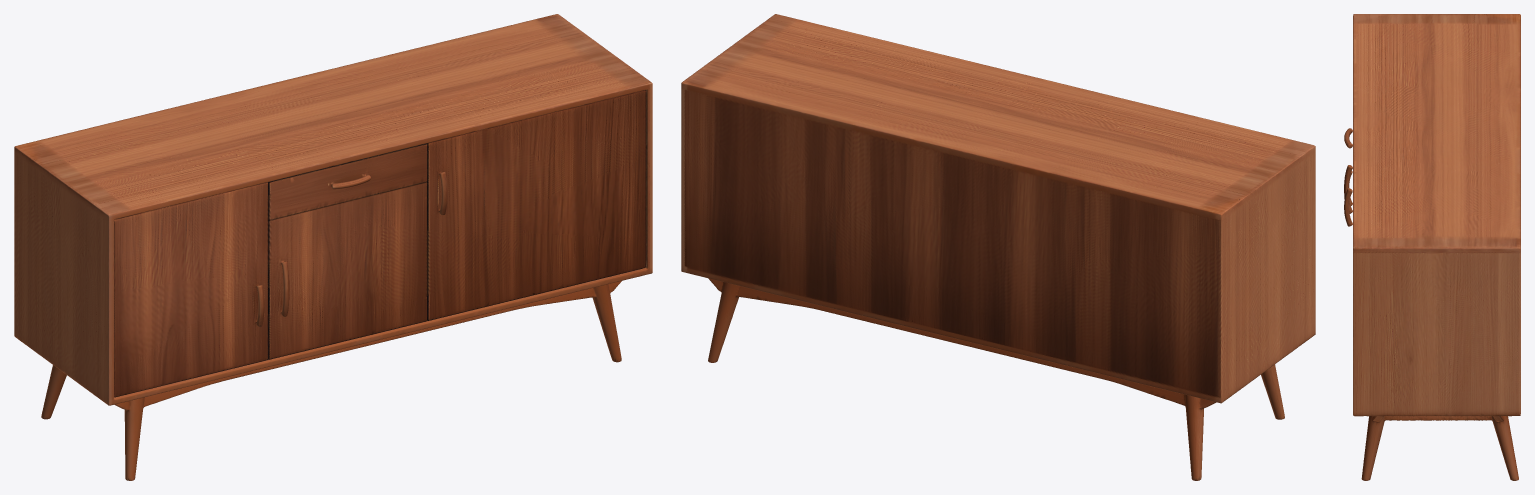
3 views of the same model, side by side, from view 1: azimuth 30°, elevation 25°; view 2: azimuth 150°, elevation 25°; view 3: azimuth 270°, elevation 25° (orthographic). The views are drawn at different scales.
Parts seen in each view (by area): view 1: Mesh_0.001; view 2: Mesh_0.001; view 3: Mesh_0.001.
Boxes of the visible parts, x1=… form: Mesh_0.001: x1=14, y1=14, x2=652, y2=480; Mesh_0.001: x1=681, y1=14, x2=1315, y2=480; Mesh_0.001: x1=1344, y1=14, x2=1520, y2=480.
Size of the model in its own units: 1.55 by 0.75 by 0.4934.
Materials: 1 (1 with a texture image).
